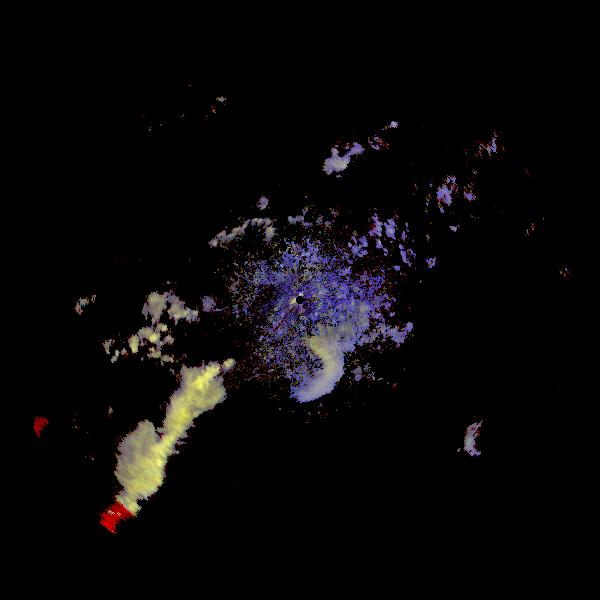roost: (265, 327, 346, 408), (464, 419, 512, 467)
